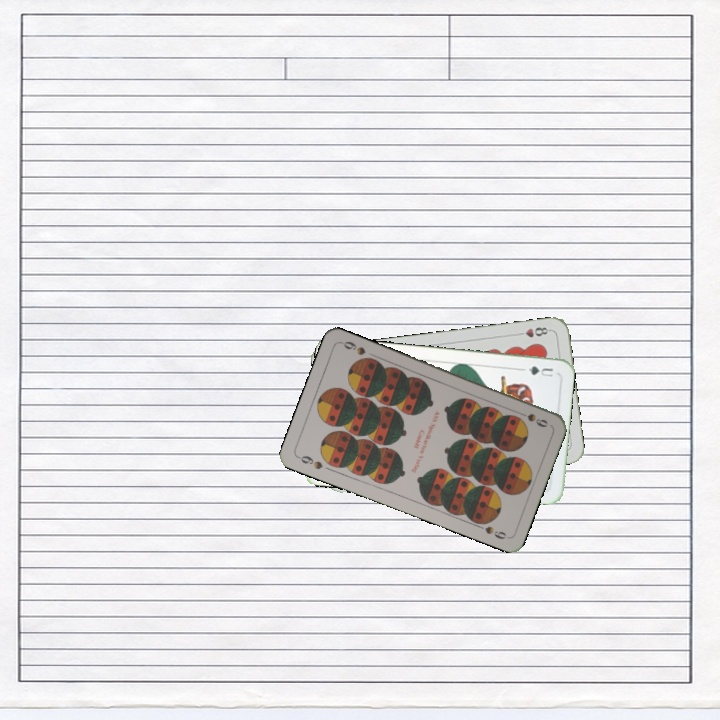GU: (524, 362, 556, 379)
H8: (513, 323, 553, 340)
S9: (513, 407, 551, 430), (294, 452, 325, 472)
